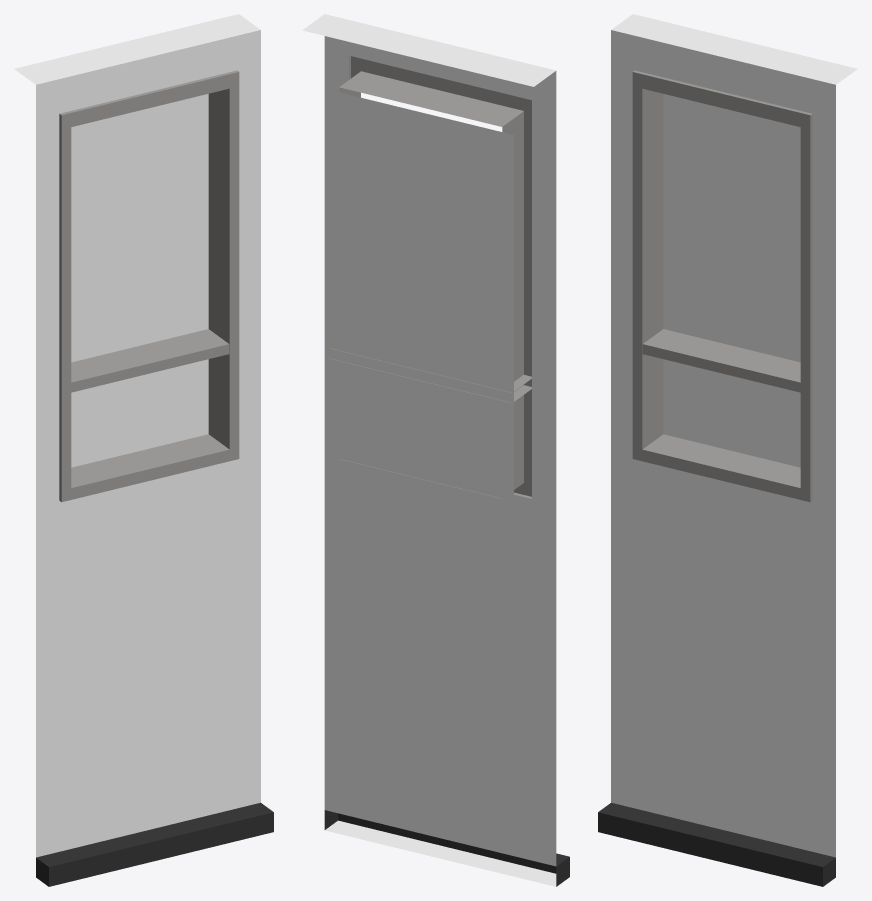
File: 15_wall(window).FBX
3 renders of one model, left to right at view 1: azimuth 30°, elevation 25°; view 2: azimuth 150°, elevation 25°; view 3: azimuth 330°, elevation 25°, orthographic. The views are drawn at different scales.
Parts seen in each view (by area): view 1: 15_wall(window), 15_wall(light); view 2: 15_wall(light), 15_wall(window); view 3: 15_wall(window), 15_wall(light).
Part boxes in pixels (x1,y1,x2,y2): 15_wall(window): (14, 14, 273, 886); 15_wall(light): (71, 94, 208, 467); 15_wall(light): (327, 89, 513, 704); 15_wall(window): (302, 14, 569, 886); 15_wall(window): (598, 14, 857, 886); 15_wall(light): (663, 94, 800, 467).
Bounding box in the file's own units: 128 × 432 × 34.47.
